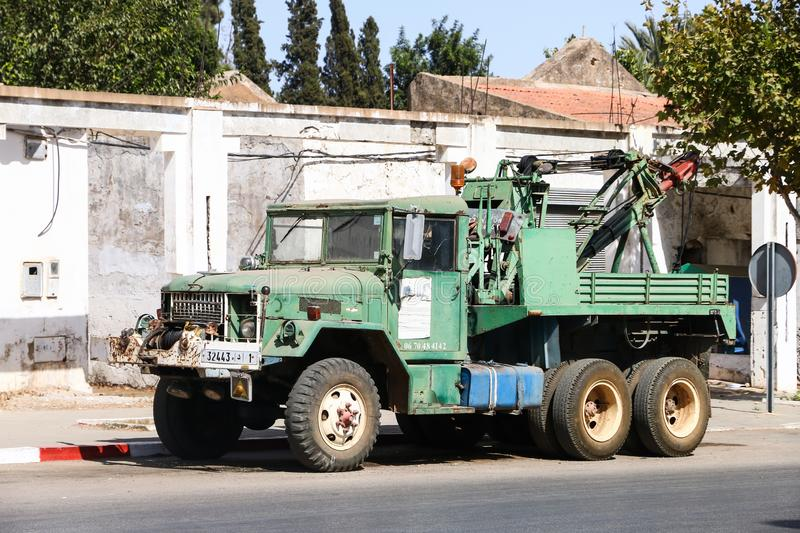camion: (132, 199, 732, 457)
